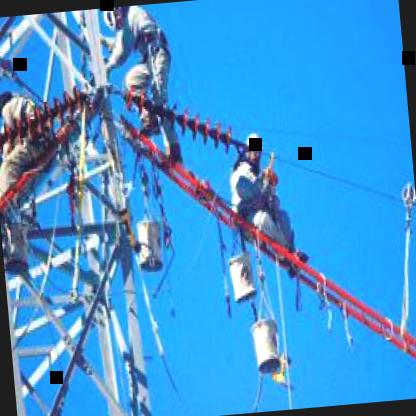helmet: (99, 6, 131, 34), (242, 128, 264, 168), (0, 78, 4, 115)
